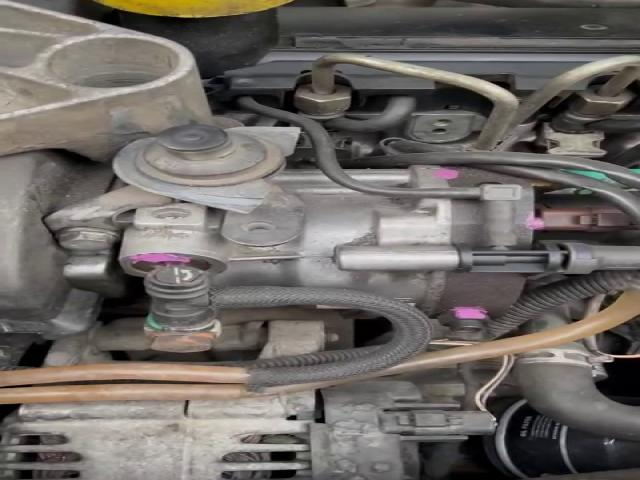alternator: (3, 375, 500, 479)
high_pressure_pump: (109, 161, 562, 334)
